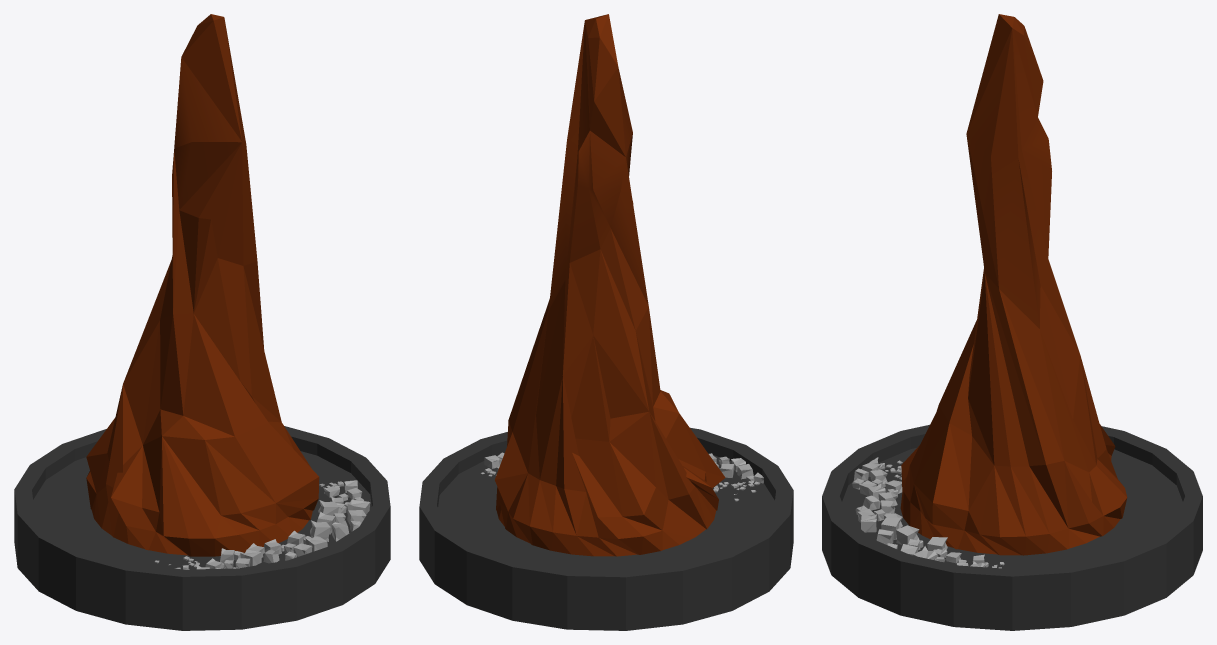
The picture shows the model from 3 angles, left to right: view 1: azimuth 30°, elevation 25°; view 2: azimuth 150°, elevation 25°; view 3: azimuth 270°, elevation 25°; orthographic projection.
Parts seen in each view (by area): view 1: pCylinder1, pCylinder2, pCylinder3, pCube13, pCube12, pCube17; view 2: pCylinder1, pCylinder2, pCylinder3, pCube17; view 3: pCylinder1, pCylinder2, pCylinder3, pCube13, pCube12, pCube17.
Boxes of the visible parts, x1,y1,x2,y2 form: pCylinder1: [86, 14, 319, 556]; pCylinder2: [14, 426, 390, 629]; pCylinder3: [14, 445, 390, 630]; pCube13: [310, 499, 370, 541]; pCube12: [248, 530, 327, 563]; pCube17: [196, 548, 261, 569]; pCylinder1: [495, 14, 725, 556]; pCylinder2: [419, 427, 793, 629]; pCylinder3: [419, 447, 793, 630]; pCube17: [709, 453, 753, 479]; pCylinder1: [900, 14, 1127, 555]; pCylinder2: [822, 424, 1202, 629]; pCylinder3: [822, 442, 1202, 630]; pCube13: [876, 517, 947, 560]; pCube12: [855, 492, 902, 532]; pCube17: [852, 462, 902, 499].
Bounding box in the file's own units: 34.5 × 53.84 × 34.5.
